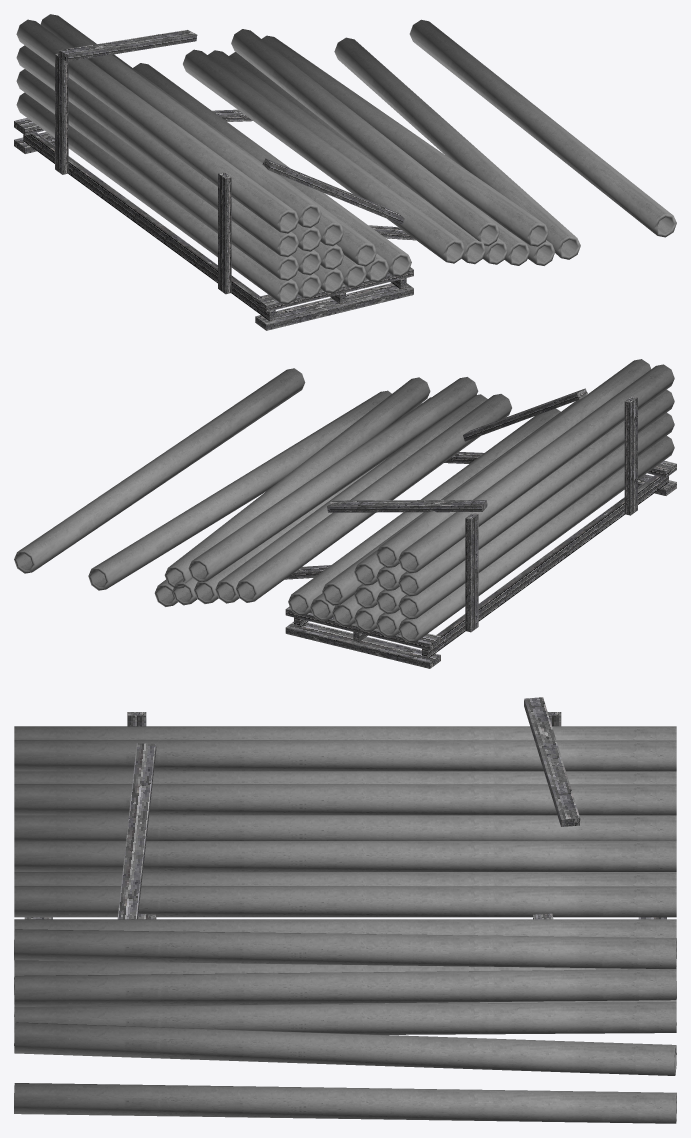
The model's file is pvc_pipe_pallet_broken.glb.
3 renders of one model, top to bottom at view 1: azimuth 30°, elevation 25°; view 2: azimuth 150°, elevation 25°; view 3: azimuth 270°, elevation 25°, orthographic. The views are drawn at different scales.
Visible parts, largest first — view 1: pvc_pipe, pvc_pipe_wood_pallet; view 2: pvc_pipe, pvc_pipe_wood_pallet; view 3: pvc_pipe, pvc_pipe_wood_pallet.
Boxes of the visible parts, x1,y1,x2,y2 form: pvc_pipe: (16, 14, 676, 304); pvc_pipe_wood_pallet: (14, 30, 415, 330); pvc_pipe: (14, 359, 674, 642); pvc_pipe_wood_pallet: (285, 388, 676, 668); pvc_pipe: (14, 726, 676, 1123); pvc_pipe_wood_pallet: (24, 697, 666, 919).
Size of the model in its own units: 2.89 by 0.8572 by 3.05.
2 materials, 2 textured.
